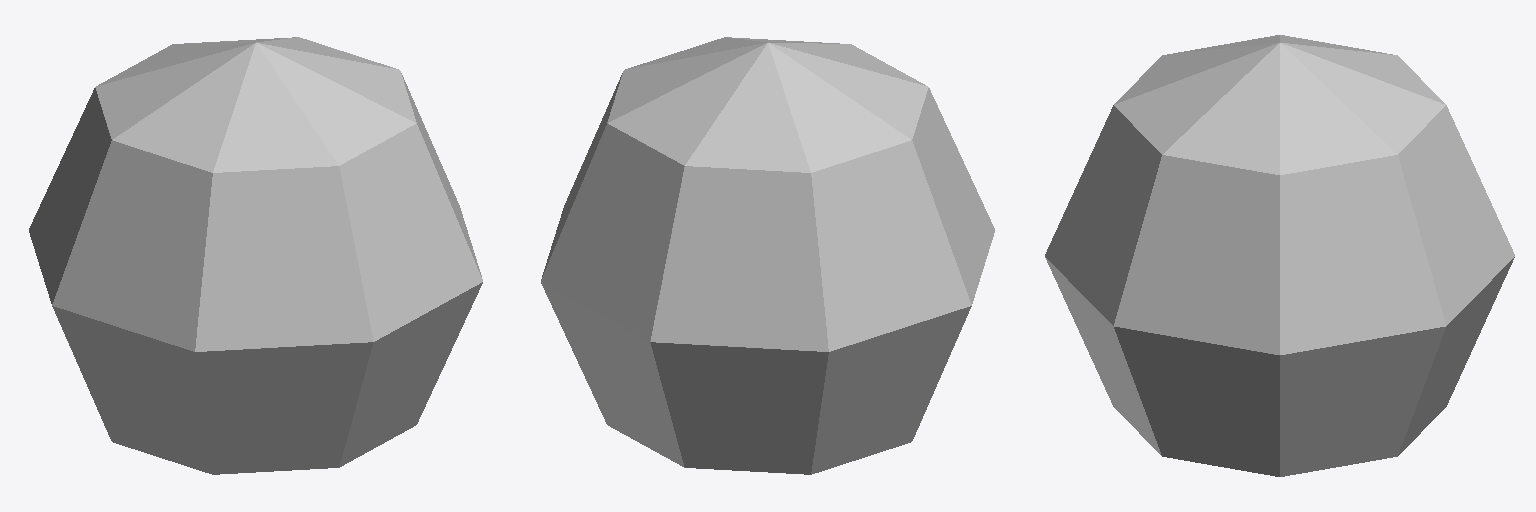
File: anchor.obj
The picture shows the model from 3 angles: view 1: azimuth 30°, elevation 25°; view 2: azimuth 150°, elevation 25°; view 3: azimuth 270°, elevation 25°; orthographic projection.
Parts seen in each view (by area): view 1: 球; view 2: 球; view 3: 球.
Part boxes in pixels (x1,y1,x2,y2): 球: (29,37,482,474); 球: (541,37,994,474); 球: (1045,35,1514,476).
Size of the model in its own units: 0.2 by 0.2 by 0.2.